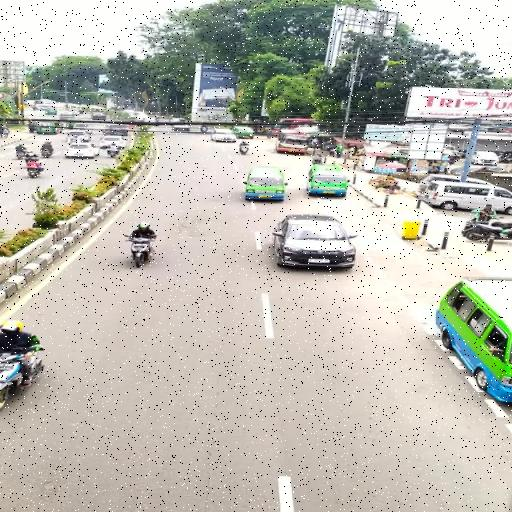Helmet: (0, 320, 23, 332), (139, 222, 149, 230)
Motor: (0, 349, 26, 409), (462, 221, 511, 240), (125, 236, 155, 267), (26, 160, 44, 178), (492, 221, 511, 229), (312, 154, 324, 164), (107, 148, 119, 158), (239, 142, 248, 155), (41, 148, 52, 158), (16, 150, 25, 159), (200, 125, 208, 133)
